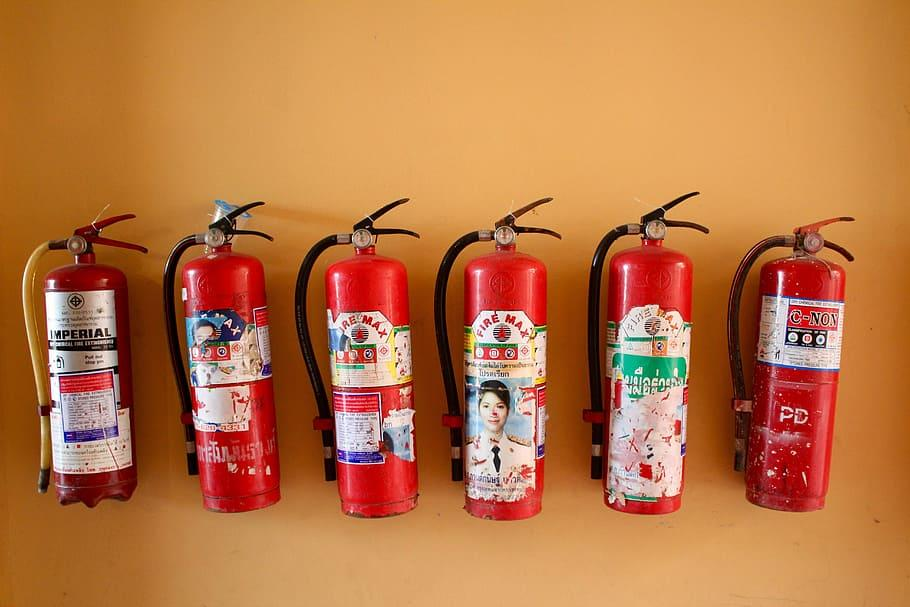Fire Extinguisher: (570, 178, 710, 518), (20, 185, 145, 548), (158, 192, 288, 535), (428, 190, 552, 538), (297, 193, 425, 527), (727, 202, 858, 517)
